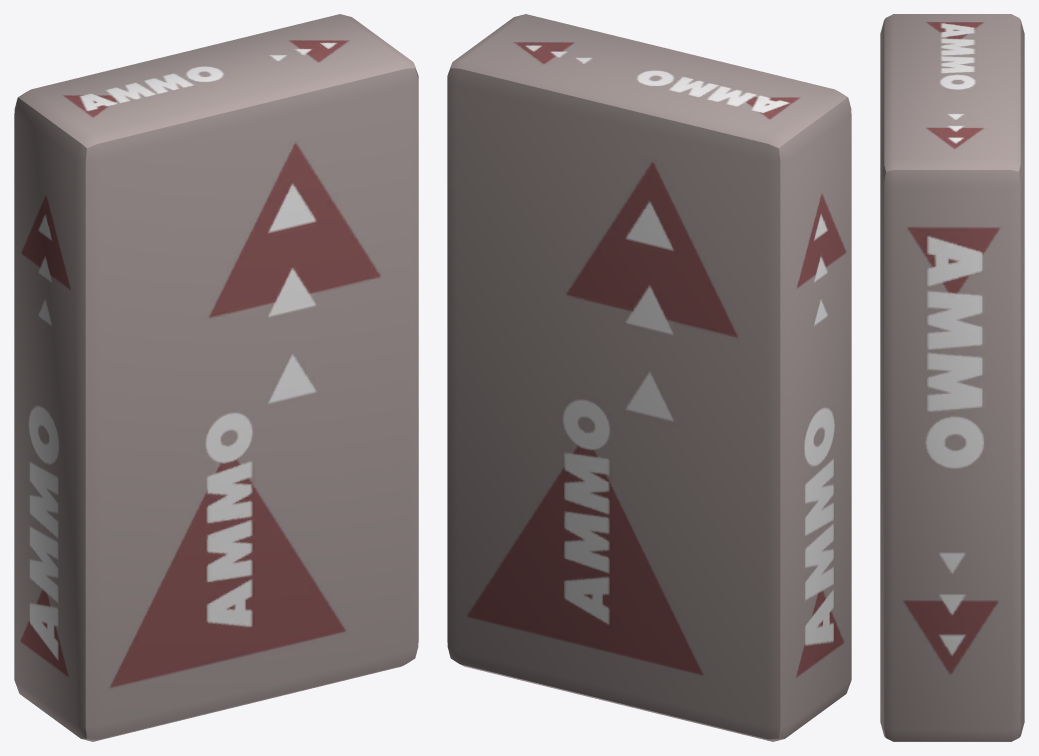
File: ammo rifle.glb
3 renders of one model, left to right at view 1: azimuth 30°, elevation 25°; view 2: azimuth 150°, elevation 25°; view 3: azimuth 270°, elevation 25°, orthographic. The views are drawn at different scales.
Parts seen in each view (by area): view 1: Rifle_Ammo; view 2: Rifle_Ammo; view 3: Rifle_Ammo.
Boxes of the visible parts, bbox=[...] form: Rifle_Ammo: bbox=[14, 14, 418, 741]; Rifle_Ammo: bbox=[447, 14, 851, 741]; Rifle_Ammo: bbox=[880, 14, 1024, 741].
Bounding box in the file's own units: 0.3656 × 0.6197 × 0.1389.
Materials: 1 (1 with a texture image).
